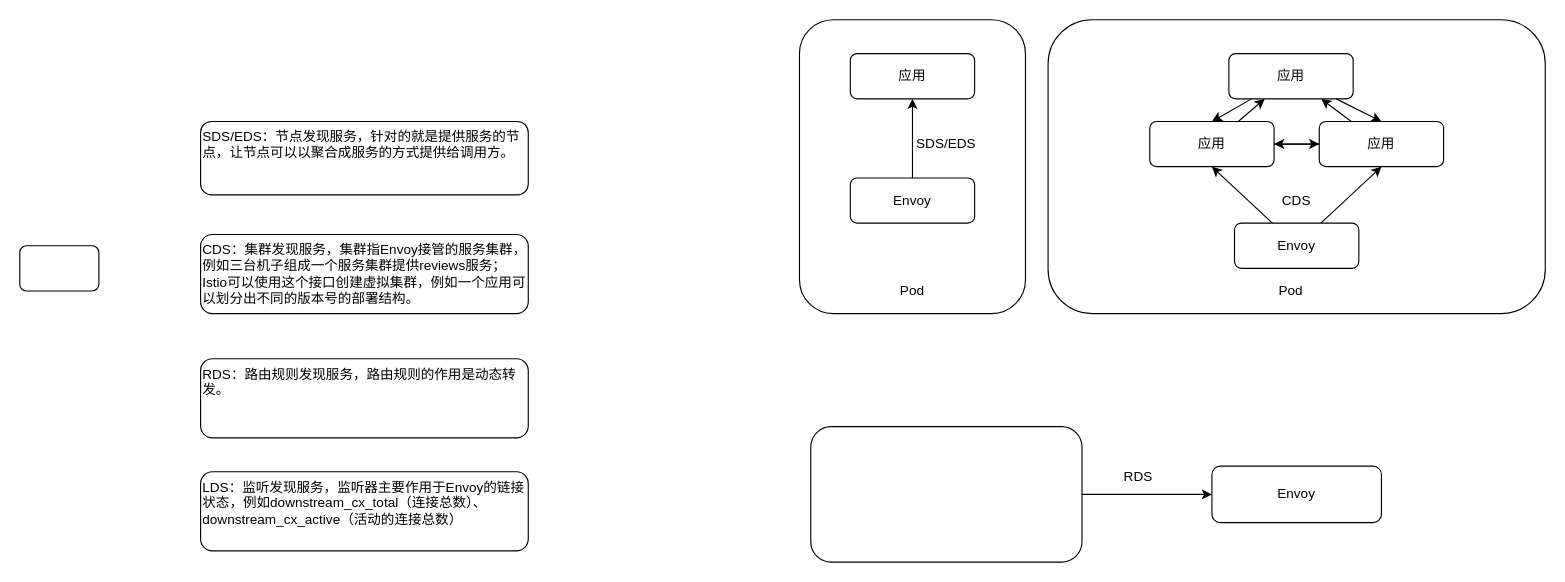
This 1565x582 diagram has some shape labels left out. The shapes that lost their labels are listed below. From the top down, each one's box as (x1, y1, x2, y2) in pixels, then its label:
(19, 245, 99, 291): xDS-API
(810, 425, 1082, 562): 用户配置的各种路由规则
